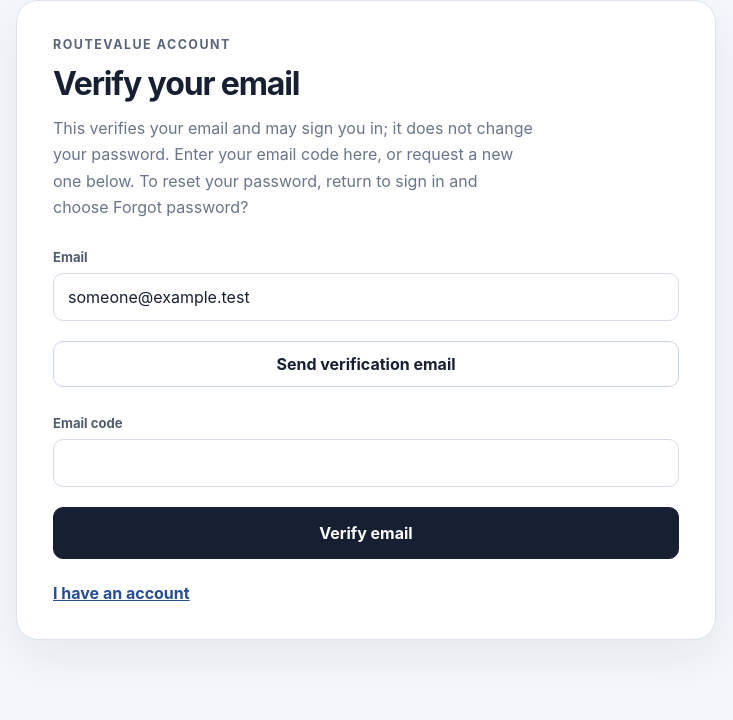
rejects expired verify codes, clears secrets and permits resending
Type "000000" into the field labelled "Email code" at point(366, 463), box [53,439,679,487]
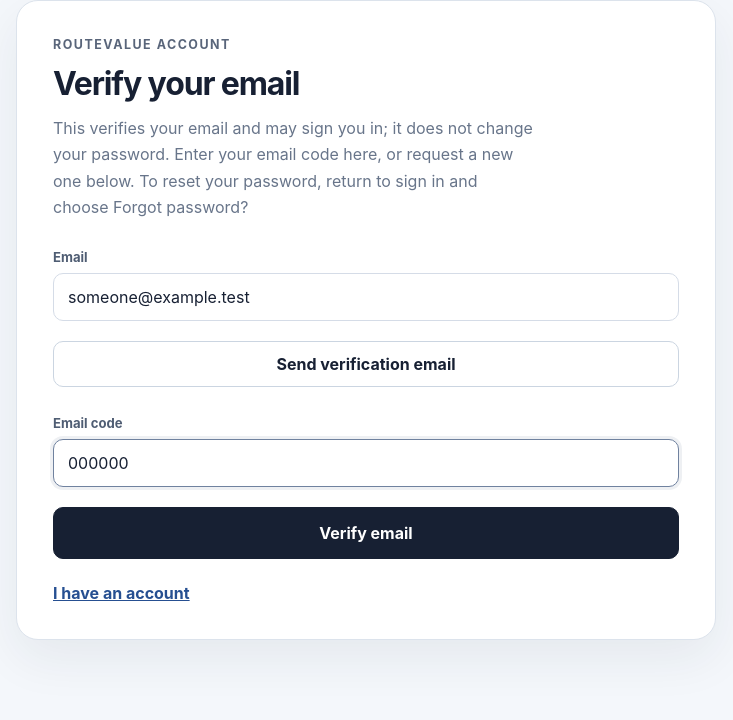
Click the button "Verify email" at point(366, 533), box [53,507,679,559]
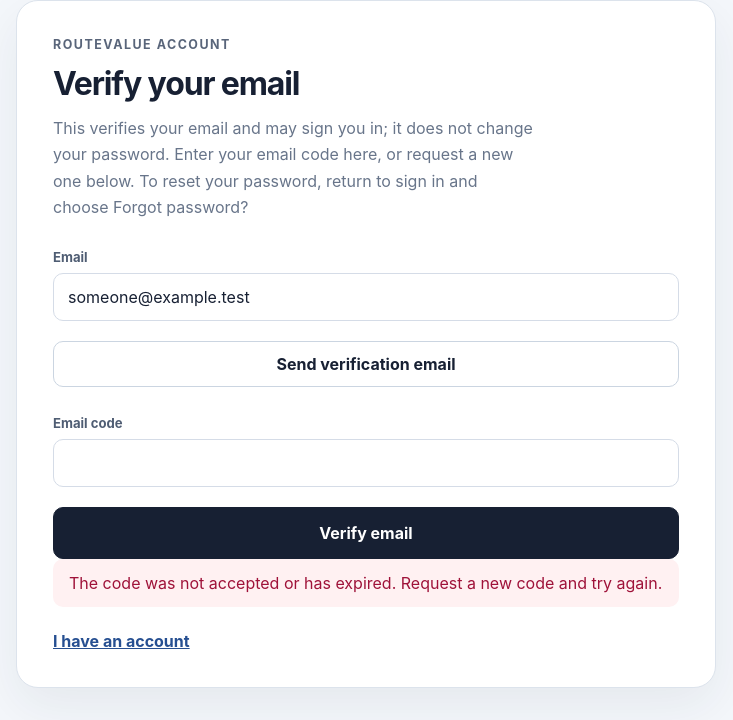
Check: the message does not show "private-detail", box [53,559,679,607]
Check: the message shows "not accepted or has expired", box [69,573,662,593]
Check: the field labelled "Email code" is empty, box [53,439,679,487]
Click the button "Send verification email" at point(366, 364), box [53,341,679,387]
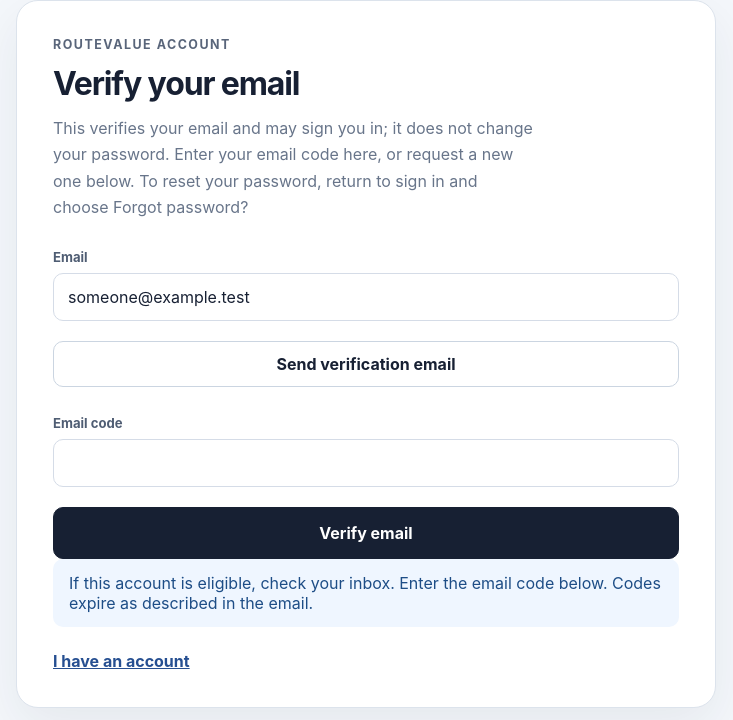
Check: the message shows "If this account is eligible", box [69,573,661,613]
